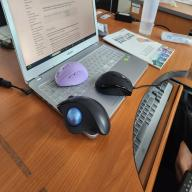mouse: (54, 94, 114, 141), (94, 66, 136, 100), (49, 57, 91, 90)
